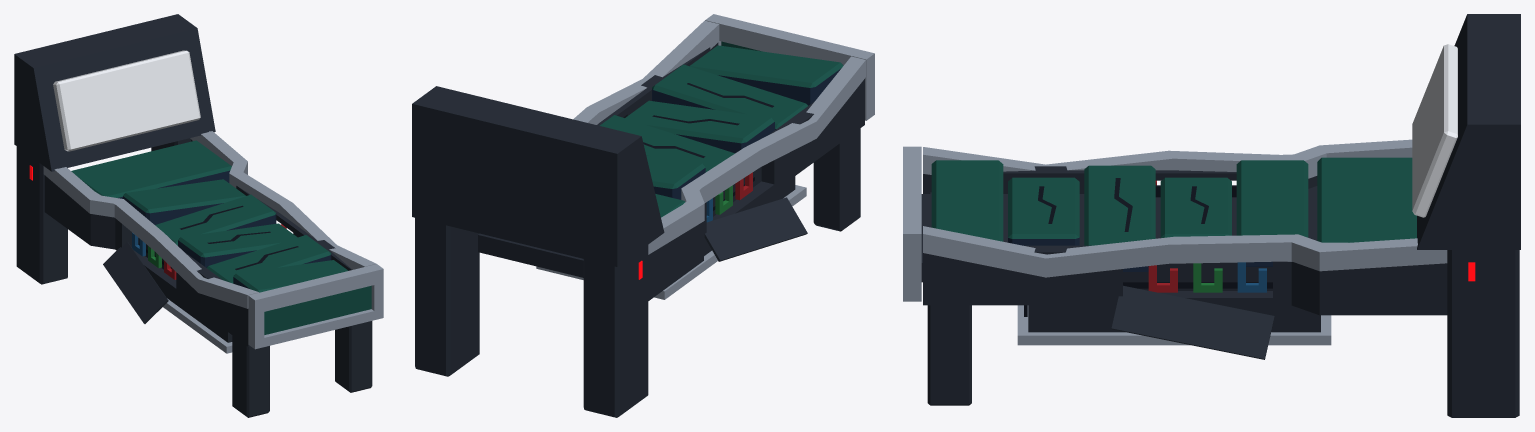
The model's file is stasis_v3_broken.glb.
The picture shows the model from 3 angles, left to right: view 1: azimuth 30°, elevation 25°; view 2: azimuth 150°, elevation 25°; view 3: azimuth 270°, elevation 25°; orthographic projection. The views are drawn at different scales.
Visible parts, largest first — view 1: Stasis_Head_Backplate, Stasis_Head_White_Plate, Stasis_Continuous_Fascia_-1, Stasis_Mattress_Head, Stasis_Foot_Frame, Stasis_Level_Rail_-1, Stasis_Leg.001, Stasis_Level_Rail_1, Stasis_Mattress_Pad_04, Stasis_Mattress_Pad_03, Stasis_Mattress_Pad_02, Stasis_Leg (+8 smaller); view 2: Stasis_Head_Backplate, Stasis_Leg.001, Stasis_Leg.003, Stasis_Level_Rail_-1, Stasis_Continuous_Fascia_-1, Stasis_Mattress_Pad_00, Stasis_Mattress_Pad_01, Stasis_Mattress_Pad_02, Stasis_Foot_Frame, Stasis_Leg, Stasis_Service_Panel_-1, Stasis_Level_Rail_1 (+6 smaller); view 3: Stasis_Continuous_Fascia_1, Stasis_Head_Backplate, Stasis_Level_Rail_1, Stasis_Leg.003, Stasis_Mattress_Head, Stasis_Service_Panel_1, Stasis_Level_Rail_-1, Stasis_Mattress_Pad_04, Stasis_Mattress_Pad_02, Stasis_Mattress_Pad_00, Stasis_Head_White_Plate, Stasis_Mattress_Pad_01 (+10 smaller).
Part boxes in pixels (x1,y1,x2,y2): Stasis_Head_Backplate: (14, 14, 215, 171); Stasis_Head_White_Plate: (53, 50, 200, 151); Stasis_Continuous_Fascia_-1: (44, 175, 250, 346); Stasis_Mattress_Head: (71, 140, 231, 198); Stasis_Foot_Frame: (248, 264, 383, 349); Stasis_Level_Rail_-1: (43, 166, 258, 308); Stasis_Leg.001: (16, 146, 67, 284); Stasis_Level_Rail_1: (190, 131, 376, 269); Stasis_Mattress_Pad_04: (123, 179, 245, 224); Stasis_Mattress_Pad_03: (155, 194, 276, 245); Stasis_Mattress_Pad_02: (178, 223, 297, 267); Stasis_Leg: (232, 335, 269, 417); Stasis_Head_Backplate: (412, 86, 664, 266); Stasis_Leg.001: (583, 245, 648, 417); Stasis_Leg.003: (415, 218, 479, 376); Stasis_Level_Rail_-1: (648, 56, 865, 254); Stasis_Continuous_Fascia_-1: (648, 79, 864, 300); Stasis_Mattress_Pad_00: (689, 45, 843, 105); Stasis_Mattress_Pad_01: (652, 64, 808, 129); Stasis_Mattress_Pad_02: (625, 100, 774, 153); Stasis_Foot_Frame: (705, 14, 874, 120); Stasis_Leg: (813, 128, 860, 231); Stasis_Service_Panel_-1: (704, 197, 807, 261); Stasis_Level_Rail_1: (573, 20, 719, 124); Stasis_Continuous_Fascia_1: (923, 245, 1447, 315); Stasis_Head_Backplate: (1417, 14, 1520, 249); Stasis_Level_Rail_1: (923, 226, 1447, 277); Stasis_Leg.003: (1447, 250, 1519, 417); Stasis_Mattress_Head: (1317, 157, 1416, 242); Stasis_Service_Panel_1: (1111, 285, 1274, 359); Stasis_Level_Rail_-1: (923, 139, 1412, 178); Stasis_Mattress_Pad_04: (1236, 160, 1308, 266); Stasis_Mattress_Pad_02: (1084, 165, 1155, 271); Stasis_Mattress_Pad_00: (931, 160, 1003, 241); Stasis_Head_White_Plate: (1412, 44, 1457, 217); Stasis_Mattress_Pad_01: (1008, 177, 1079, 245).
Size of the model in its own units: 1.27 by 1.39 by 2.64.
